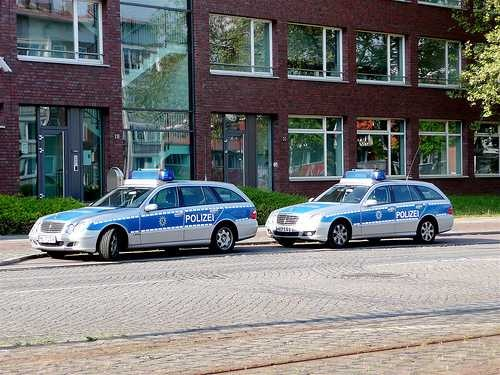Police Car: (17, 163, 262, 265), (278, 163, 458, 251)
